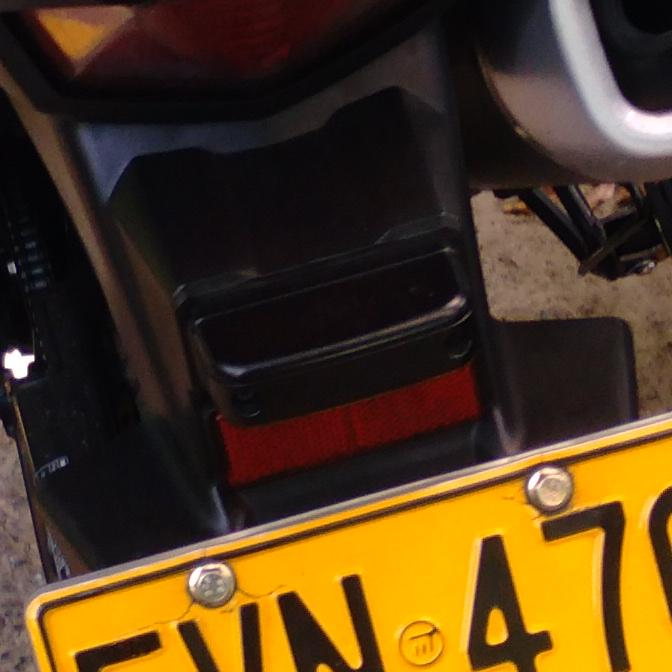plates: (13, 408, 672, 672)
